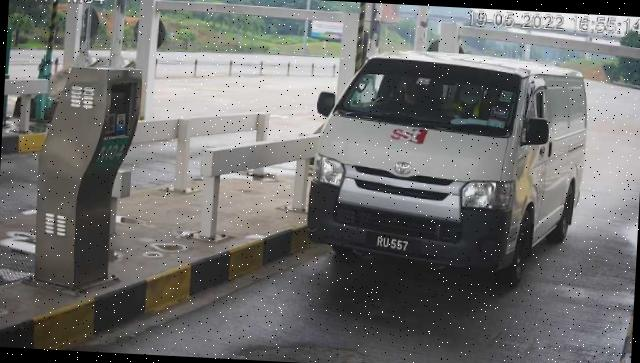License_Plate: (365, 230, 424, 261)
van: (305, 47, 592, 291)
